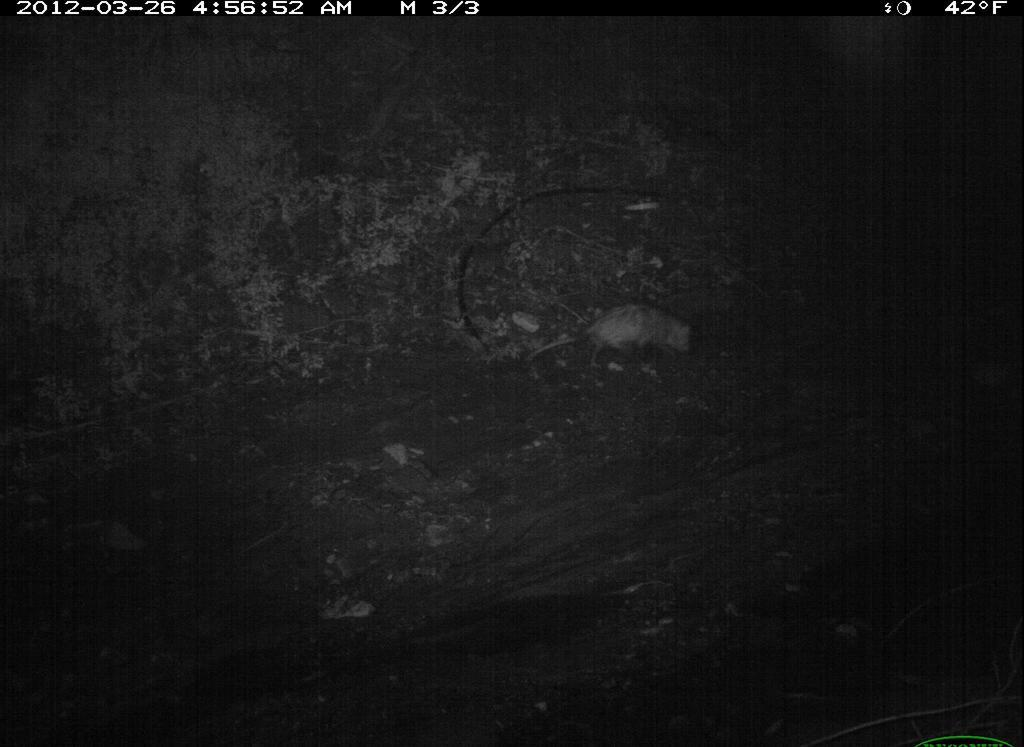opossum: (539, 283, 717, 385)
